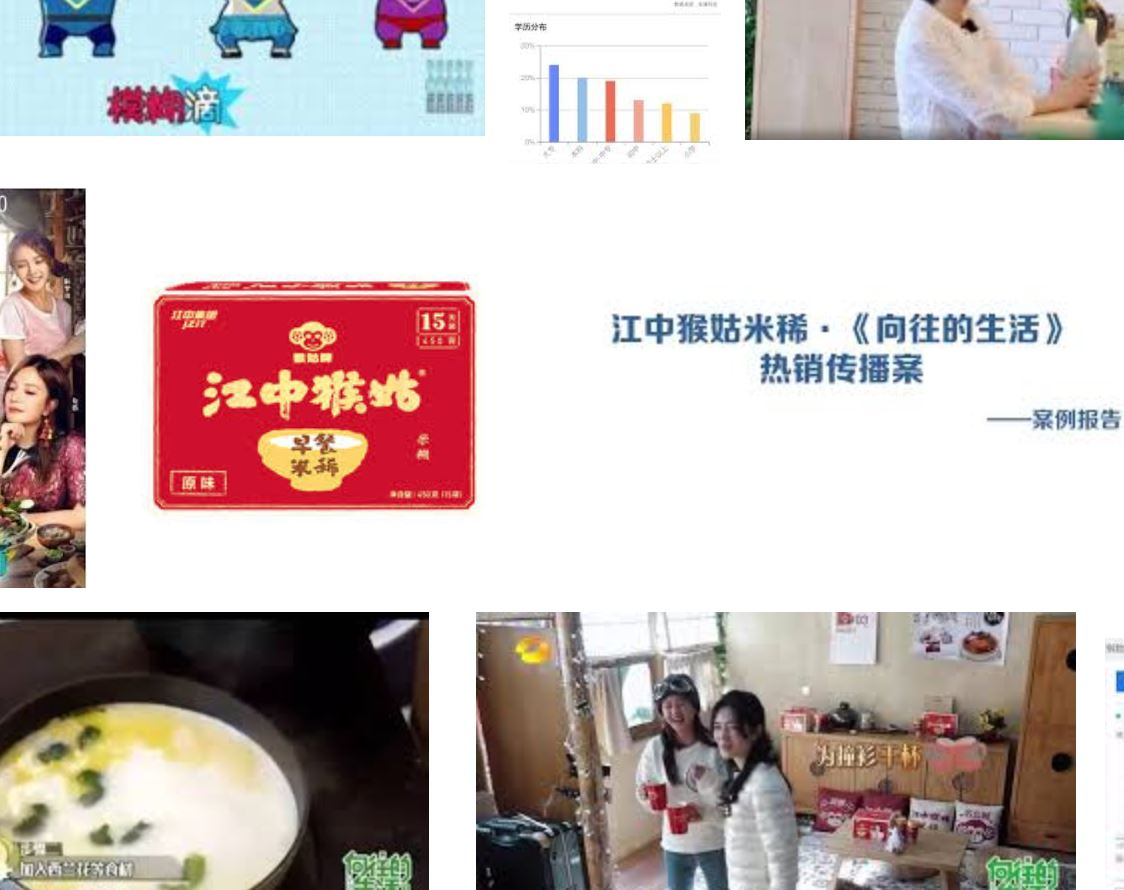box: (149, 280, 480, 514)
